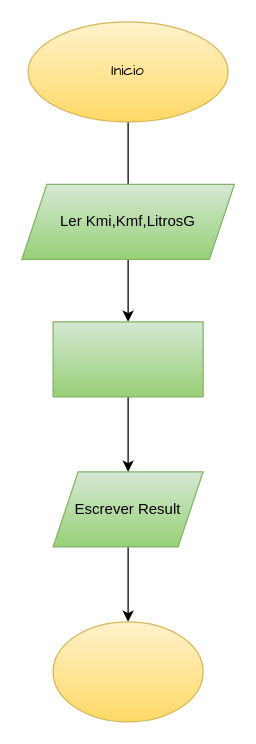
The diagram is 256 pixels wide and 744 high, and some of its shapes have lost their labels. Here are the shapes that lost their labels. From the top down, the box of each, then its label:
(52, 321, 203, 397): Result=(100*litrosG)/(Kmf-Kmi)
(52, 621, 203, 722): Fim
